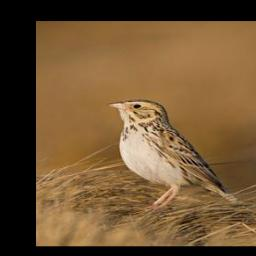Sparrow: (105, 99, 240, 210)
